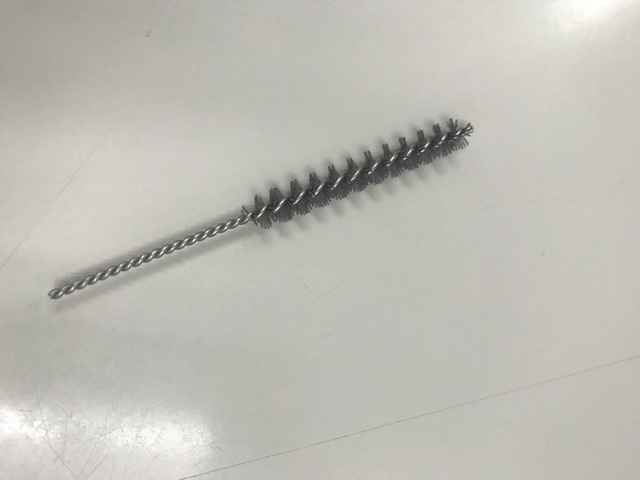Twist Brush-A: (42, 116, 473, 302)
